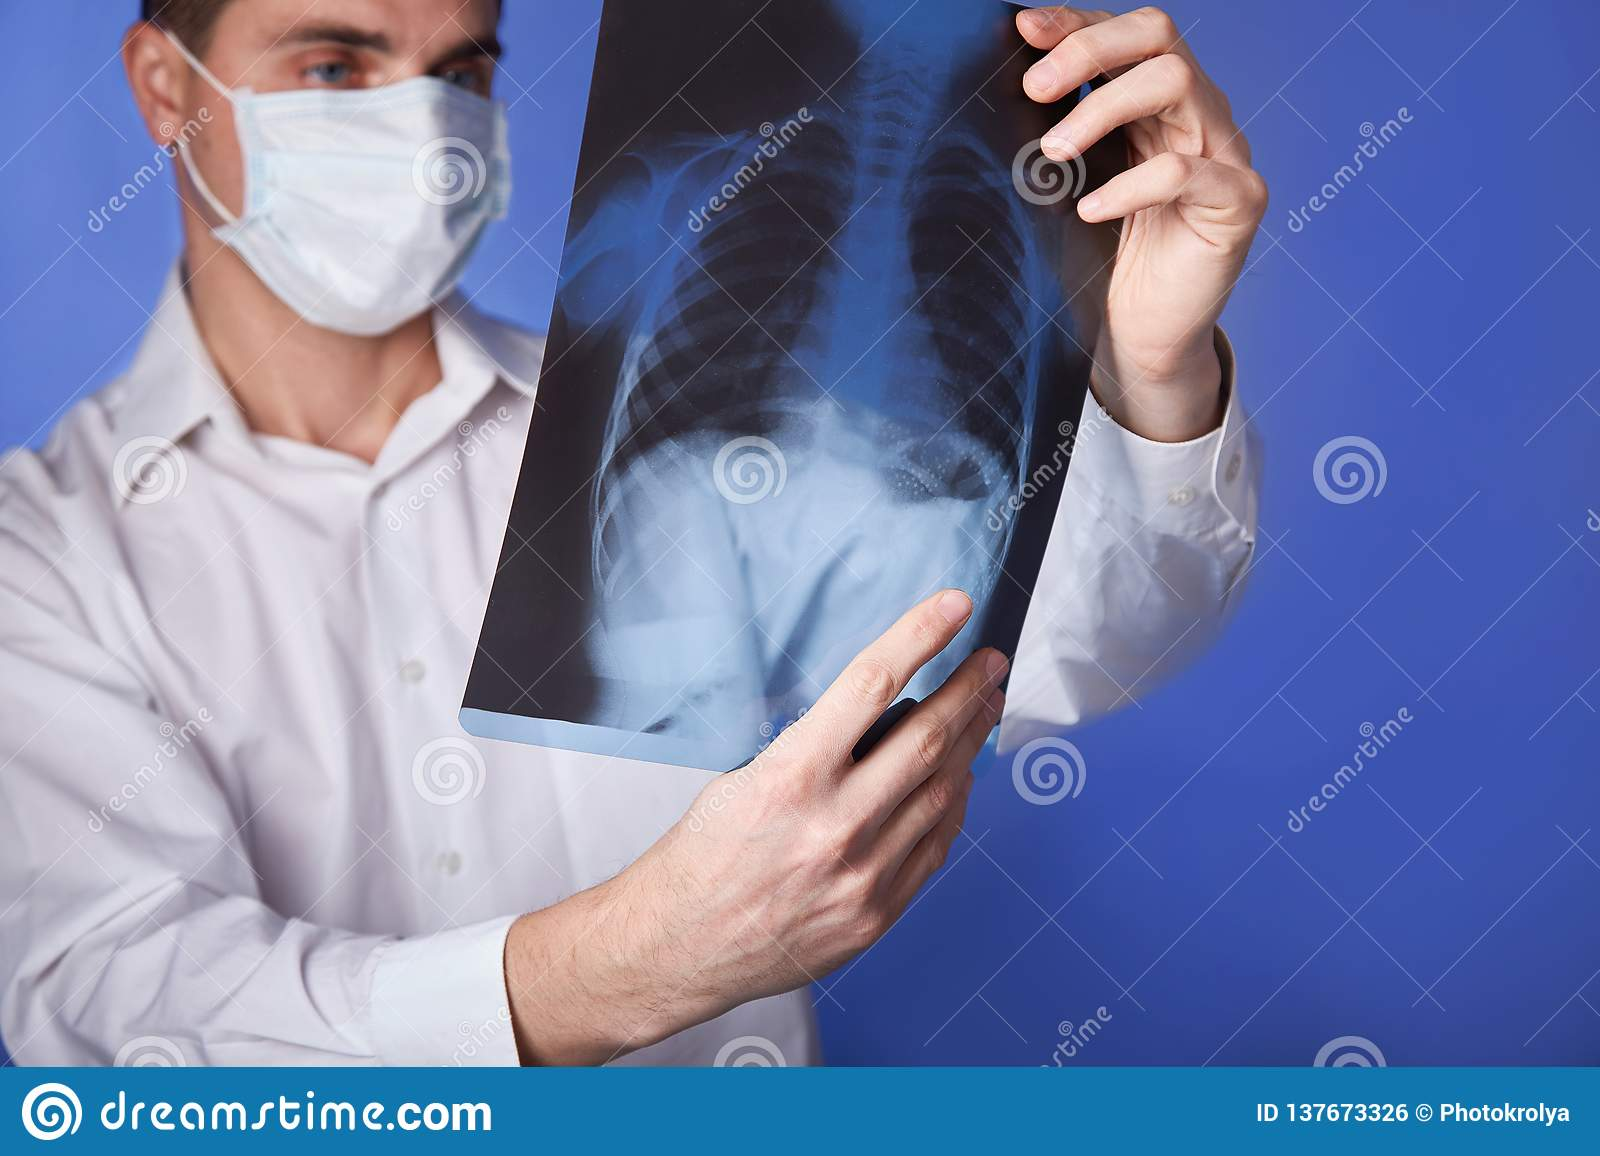mask: (210, 79, 513, 346)
